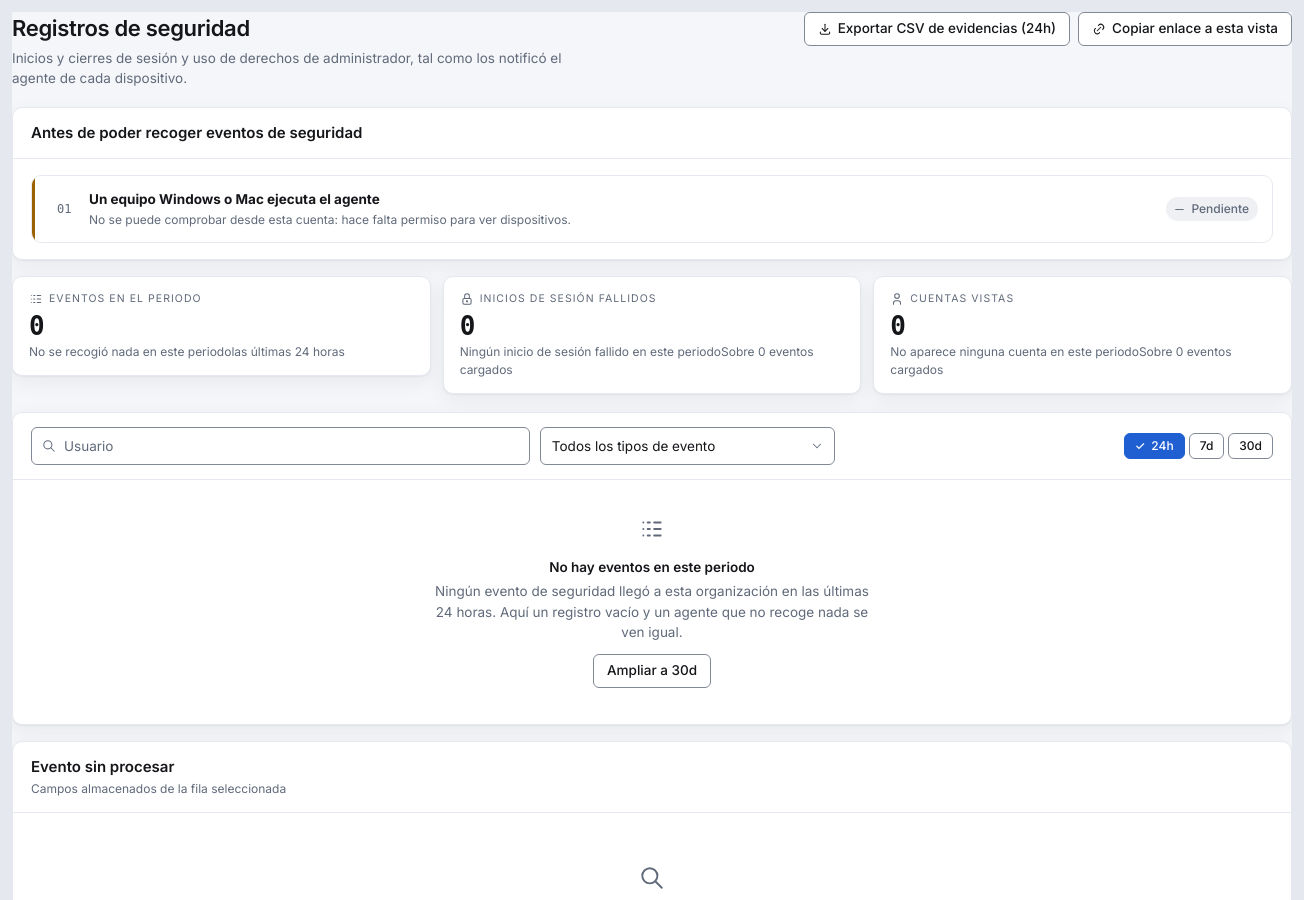
Test: the security logs page in Spanish › says nothing was collected, and offers the wider window
Expected: the heading "No hay eventos en este periodo" is shown, [549,559,755,575]
Expected: the text "Ningún evento de seguridad llegó a esta organización en las últimas 24 horas. Aquí un registro vacío y un agente que no " is shown, [435,583,869,640]
Step 1. Click the button "Ampliar a 30d" → {"x": 652, "y": 671}, box [593,654,711,688]
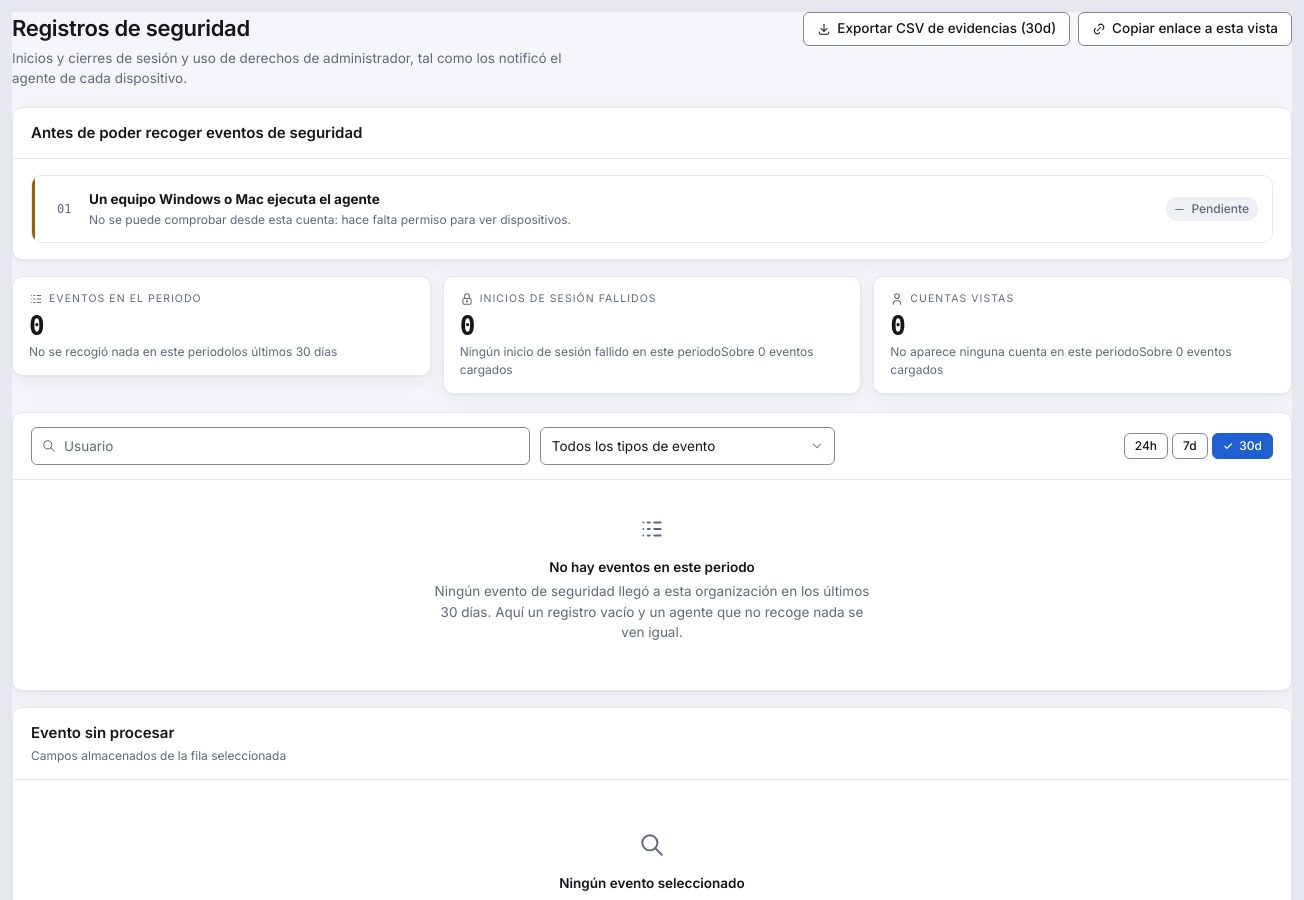
Expected: the text "en los últimos 30 días." is shown, [434,583,869,640]
Expected: the button "Ampliar a" is gone
